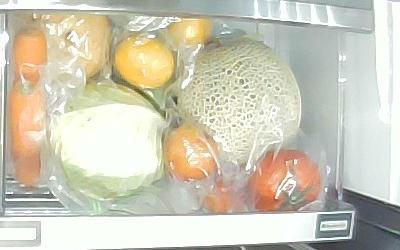cabbage: (47, 80, 167, 202)
carrot_vinyl: (9, 81, 44, 191), (12, 26, 48, 85)
melon: (176, 34, 302, 162)
pear_vinyl: (29, 14, 113, 81)
prune_vinyl: (164, 123, 216, 182), (203, 174, 243, 213)
tangerine_vinyl: (113, 34, 175, 89), (166, 17, 215, 48)
tomato_vinyl: (248, 150, 322, 212)
